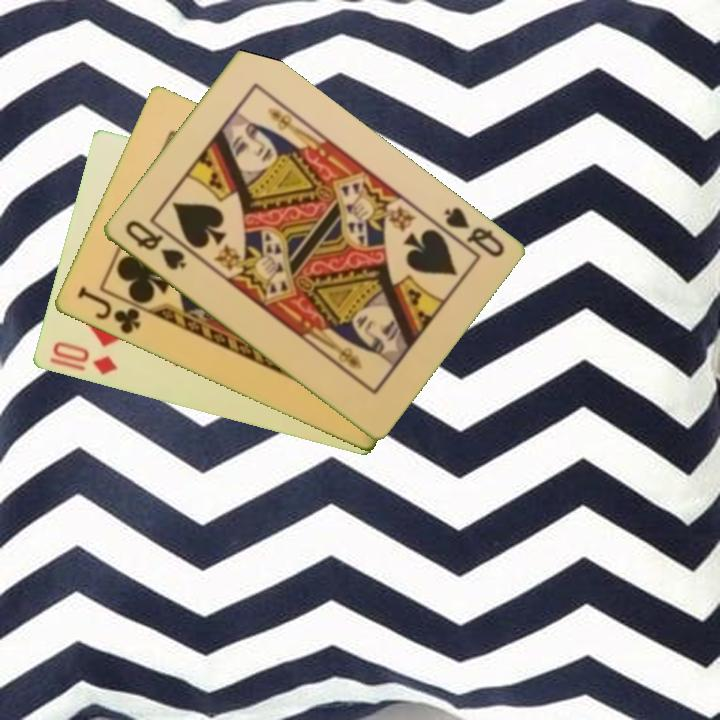10d: (45, 338, 120, 379)
Jc: (73, 283, 143, 338)
Qs: (439, 203, 507, 261), (121, 216, 189, 273)
